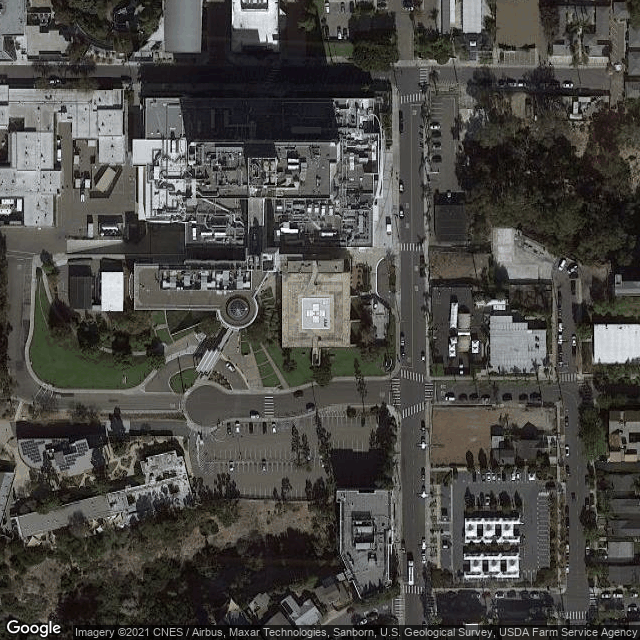Helipad: (299, 296, 333, 331)
